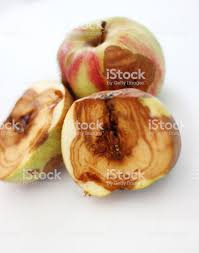damaged_apple: (66, 94, 185, 200), (58, 15, 173, 96), (3, 85, 83, 189)
